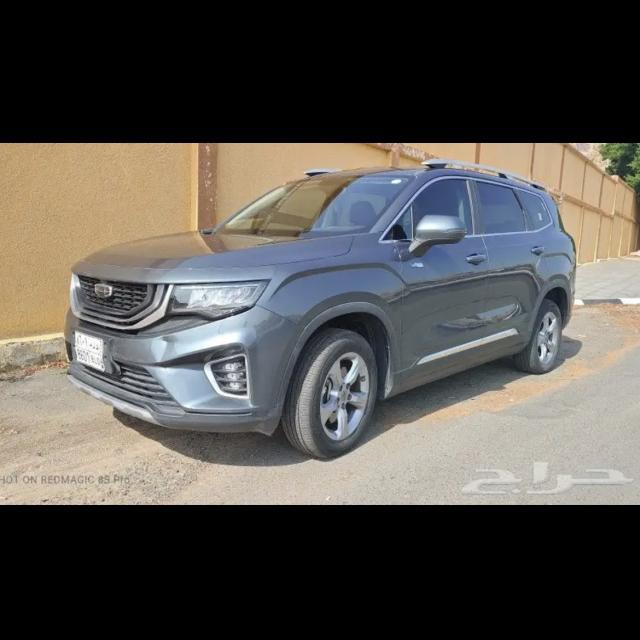license_plate: (74, 330, 106, 372)
